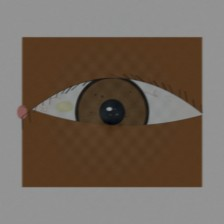pinguecula_lesion: (46, 92, 83, 121)
